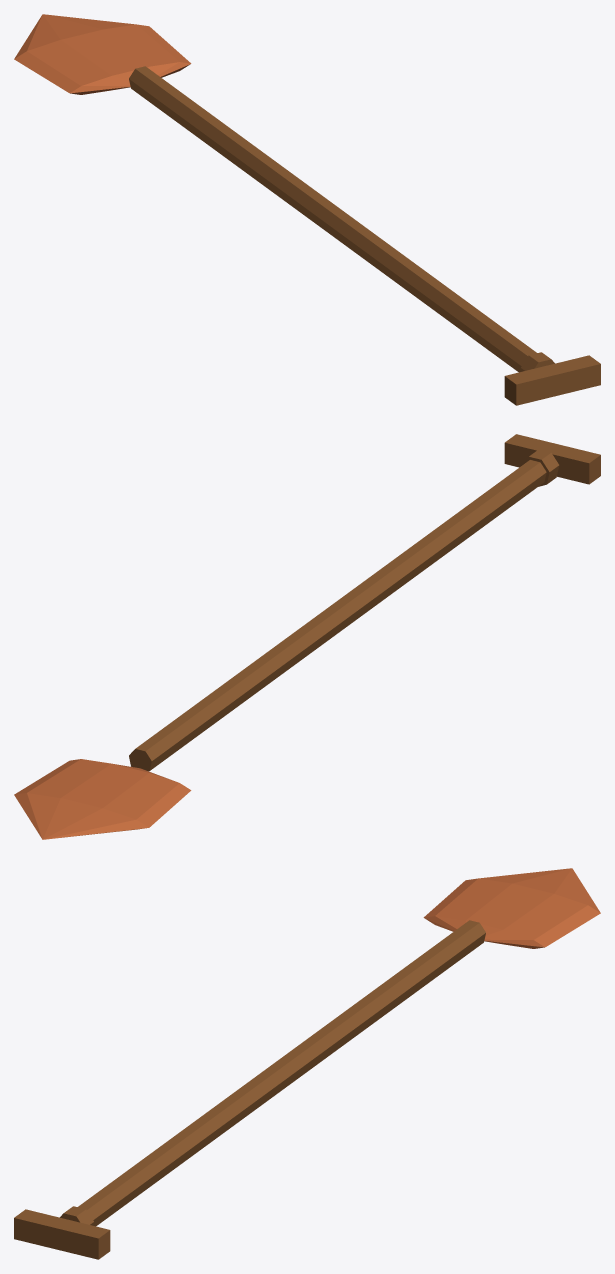
The model's file is Tool_Shovel_Copper.fbx.
The picture shows the model from 3 angles, top to bottom: view 1: azimuth 30°, elevation 25°; view 2: azimuth 150°, elevation 25°; view 3: azimuth 330°, elevation 25°; orthographic projection.
Parts seen in each view (by area): view 1: Tool_Shovel_Copper; view 2: Tool_Shovel_Copper; view 3: Tool_Shovel_Copper.
Part boxes in pixels (box(x1,y1,x2,y2)): Tool_Shovel_Copper: box(14, 14, 600, 405); Tool_Shovel_Copper: box(14, 434, 600, 839); Tool_Shovel_Copper: box(14, 868, 600, 1259).
Size of the model in its own units: 0.08 by 0.0166 by 0.528.
